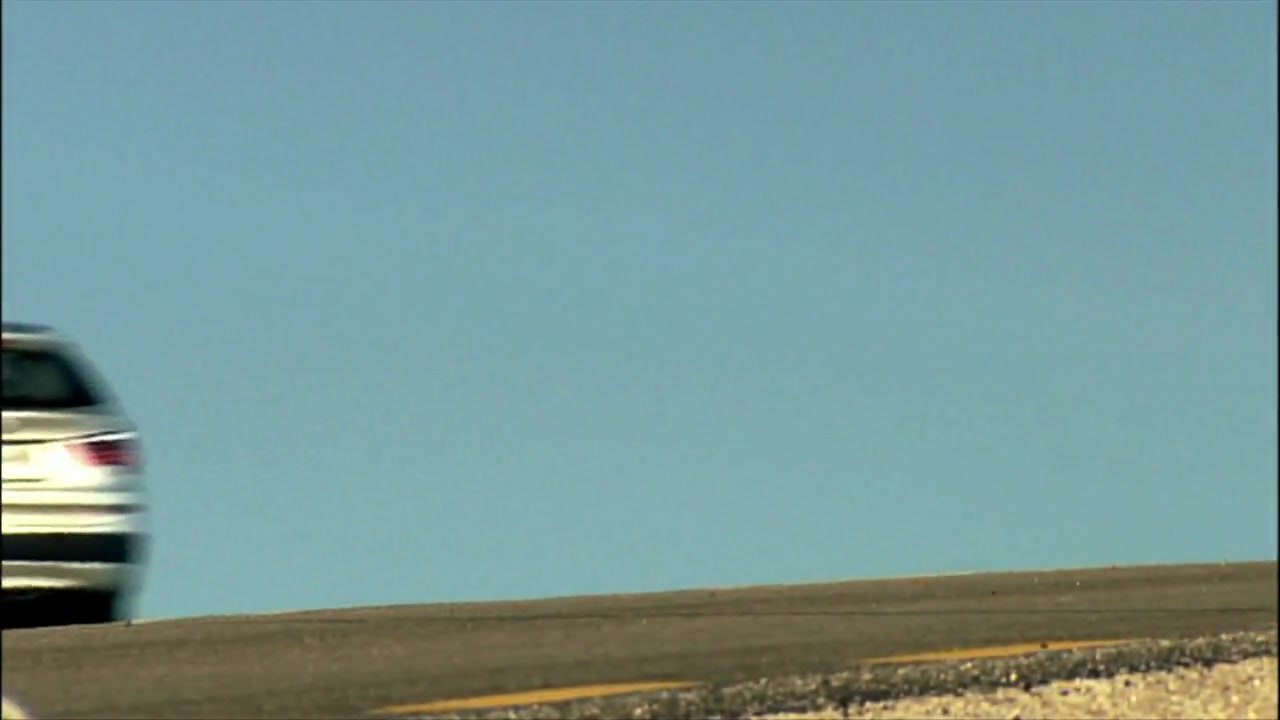car: (5, 317, 152, 631)
